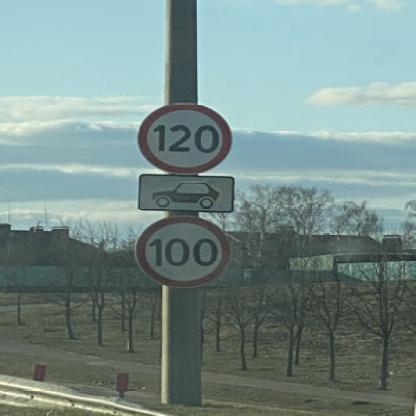Speed Limit 100: (138, 217, 229, 288)
Speed Limit 120: (141, 102, 233, 174)
